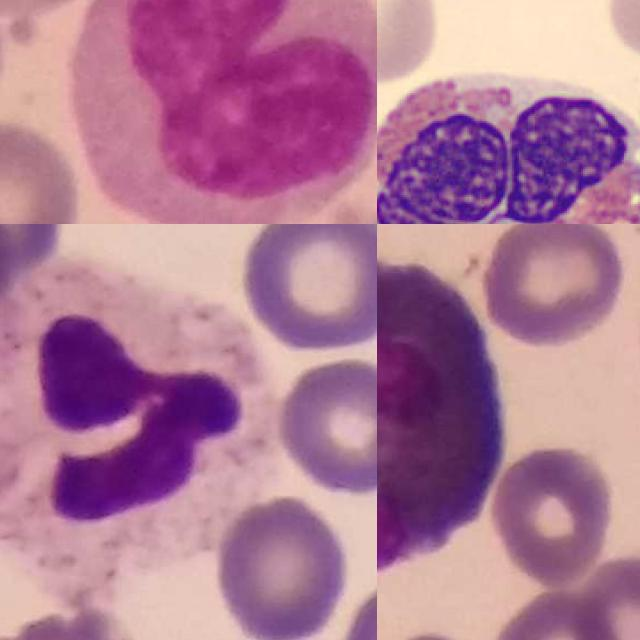Eosinophil: (377, 54, 640, 224), (377, 252, 509, 579)
Monocyte: (75, 0, 377, 224)
Neutrophil: (0, 268, 267, 553)
